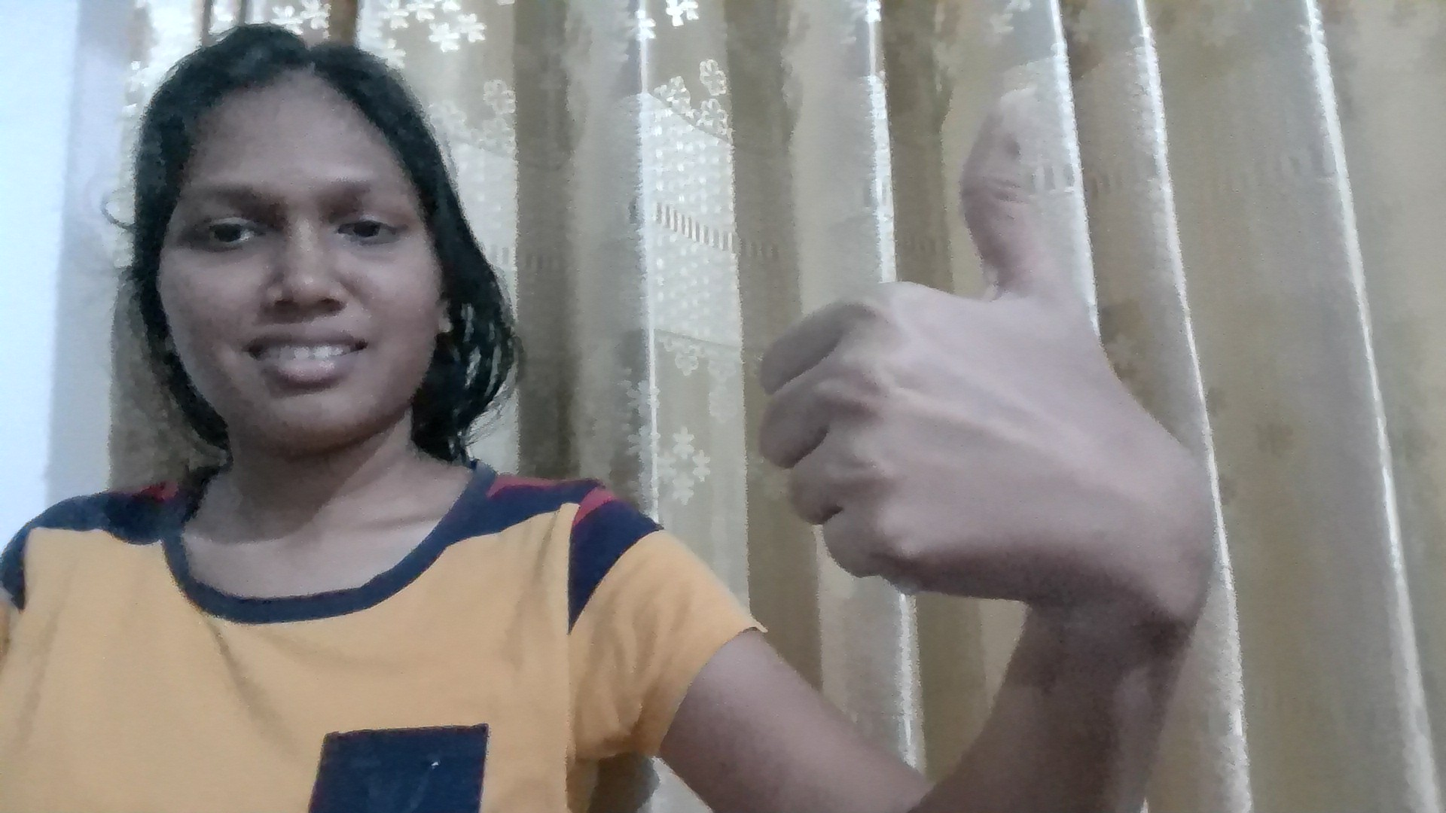Thumbs Up: (732, 100, 1253, 650)
